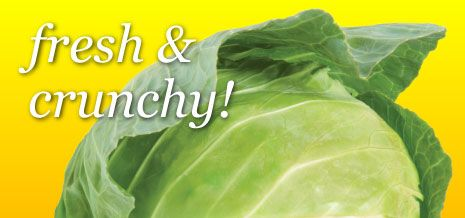cabbage: (54, 9, 454, 217)
